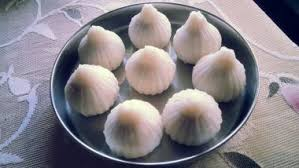modak: (165, 89, 224, 155), (108, 98, 163, 159), (172, 12, 234, 57), (62, 64, 116, 113), (192, 52, 246, 100), (126, 49, 181, 94), (74, 27, 122, 73), (130, 6, 170, 48)
